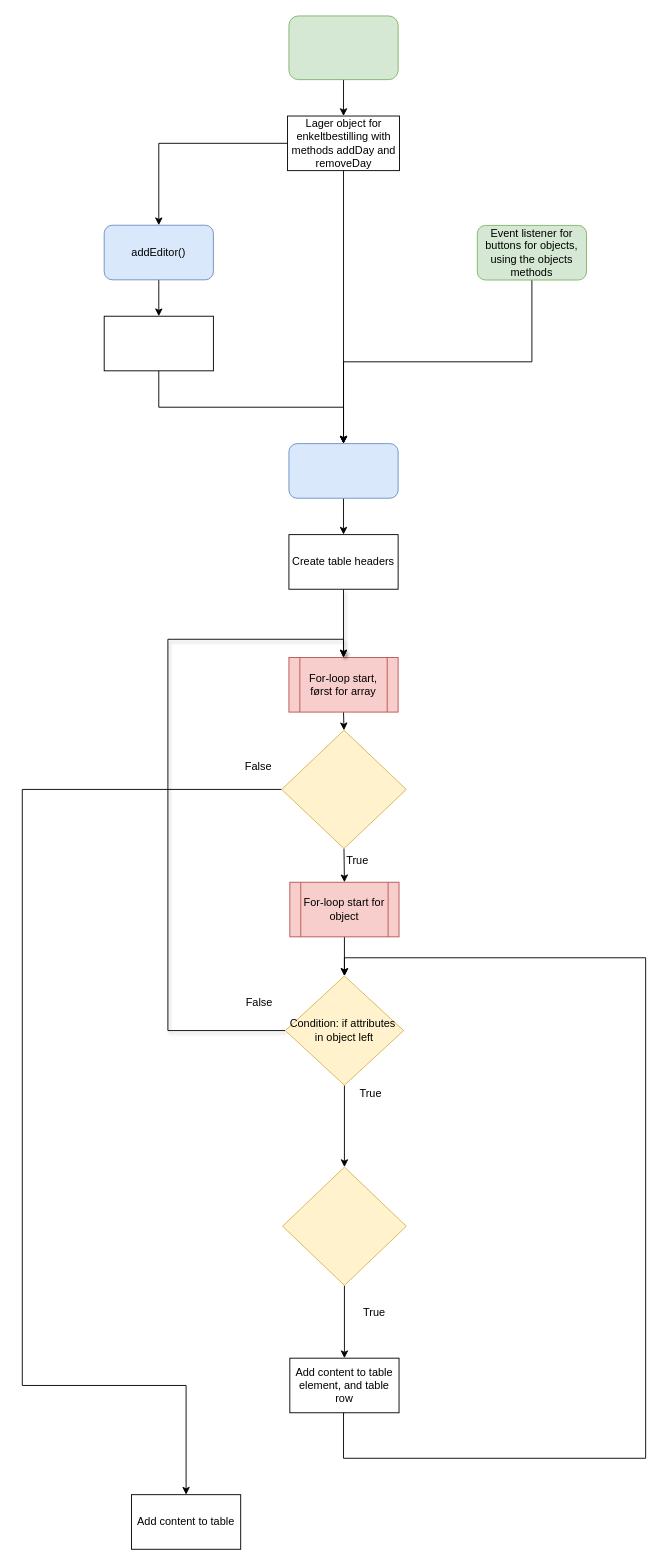
Some shapes in this 669 by 1565 pixel diagram are drawn without their labels. The shapes that lost their labels are listed below. From the top down, each one's centre as x and y in pixels, then its label:
At point (343, 47): "addToOrder() ved knapp".
At point (158, 343): "Lager HTML dokument for å legge til og fjerne dager".
At point (343, 470): "updateOrder()".
At point (343, 789): "Condition: if entries left in array".
At point (344, 1225): "If: correct object attribute".
